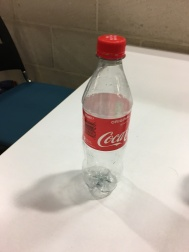bottle_red: (77, 33, 133, 209)
